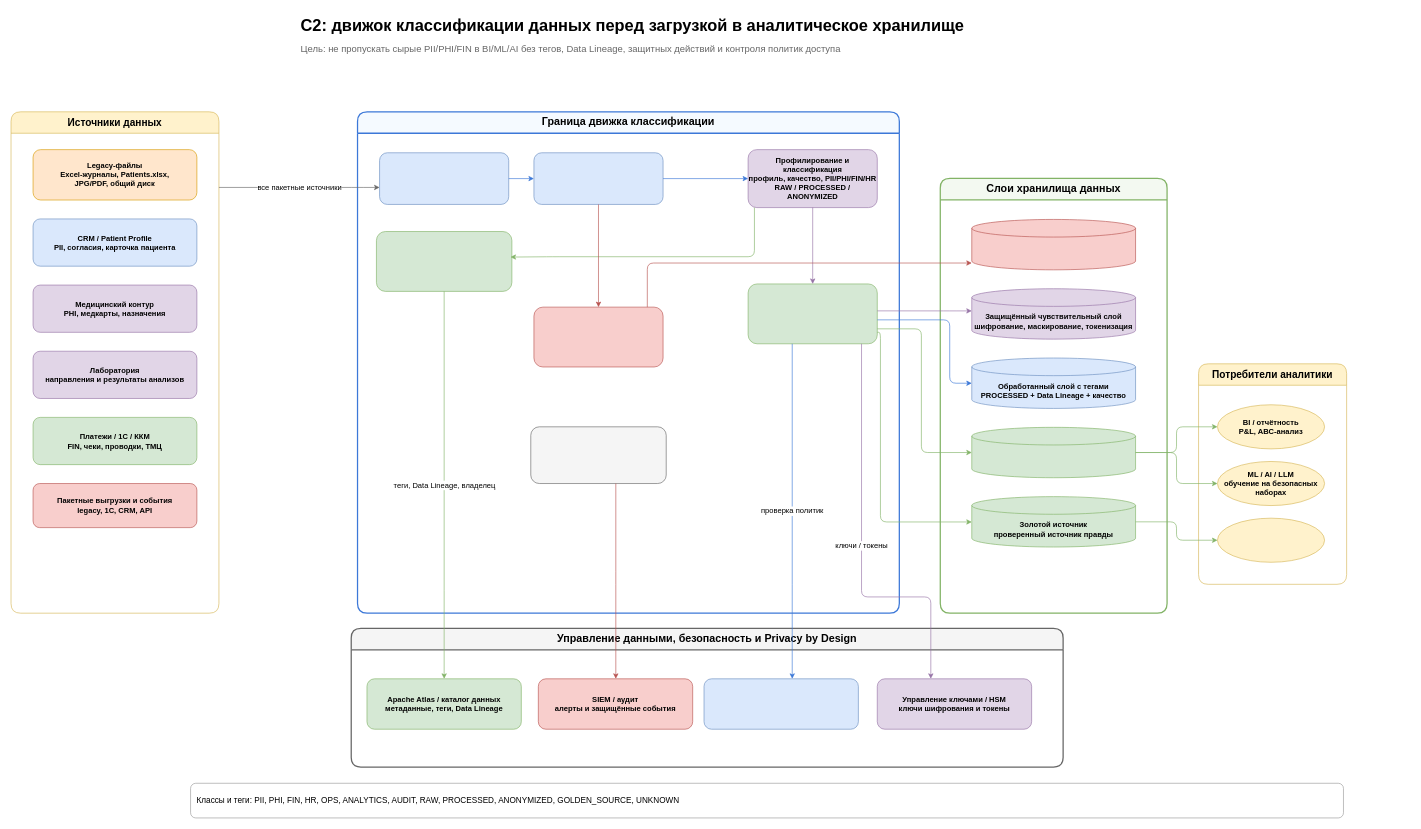
This 1421x829 diagram has some shape labels left out. The shapes that lost their labels are listed below. From the top down, each one's centre as x and y in pixels, then its label:
At point (444, 178): "Адаптер пакетной загрузки приём файлов, выгрузок, событий и метаданные".
At point (598, 178): "Реестр схем и контроль изменений версии схем и новые поля".
At point (444, 261): "Публикация метаданных и тегов теги, Data Lineage, владелец, цель".
At point (1053, 244): "Сырой слой / карантин нет прямого BI-доступа".
At point (812, 313): "Блок политик и защиты политики, маскирование, токены, шифрование".
At point (598, 336): "Карантин и ручная проверка новая схема, низкая уверенность".
At point (598, 455): "Запись аудита и событий события классификации, изменения схем, ручные решения".
At point (1053, 452): "Обезличенные витрины наборы для BI/ML/AI".
At point (1271, 540): "Бизнес-аналитик только ANONYMIZED / GOLDEN".
At point (780, 703): "Apache Ranger доступ по тегам и ролям".
